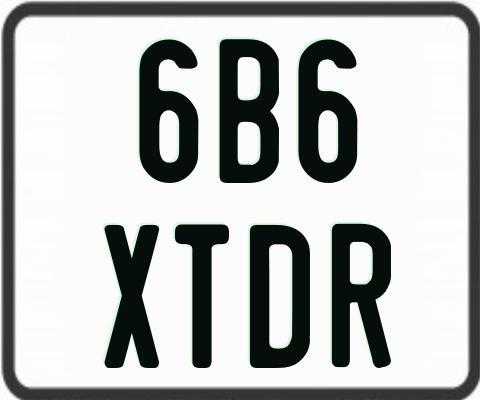6: (138, 36, 199, 182), (298, 38, 358, 186)
B: (220, 37, 285, 184)
D: (247, 225, 307, 373)
R: (331, 223, 390, 367)
T: (174, 223, 228, 371)
X: (102, 222, 160, 368)
